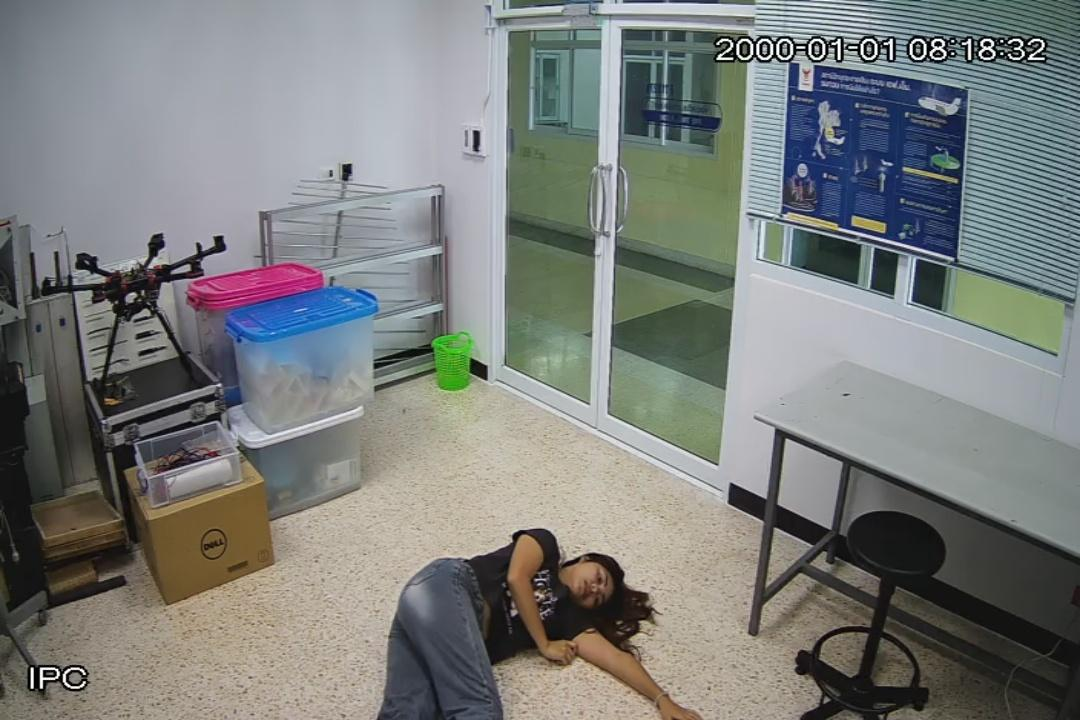fall: (374, 528, 699, 720)
